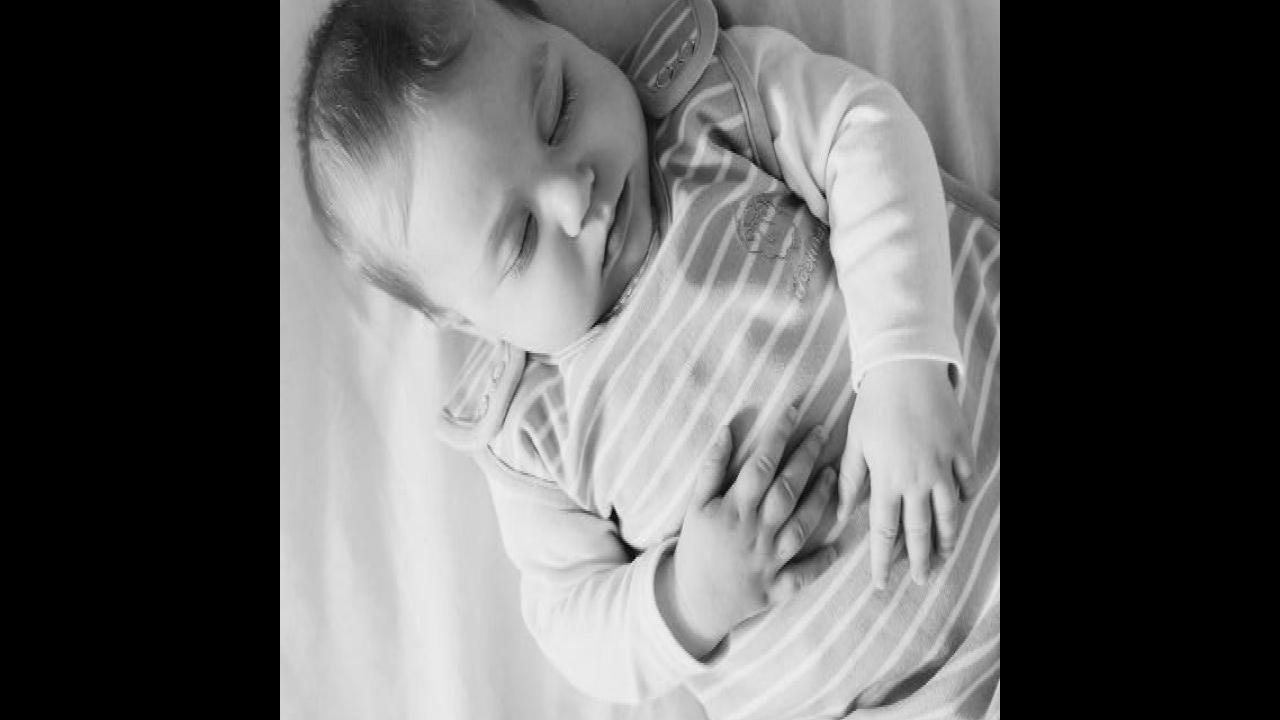hand: (677, 402, 835, 630), (838, 362, 979, 610)
